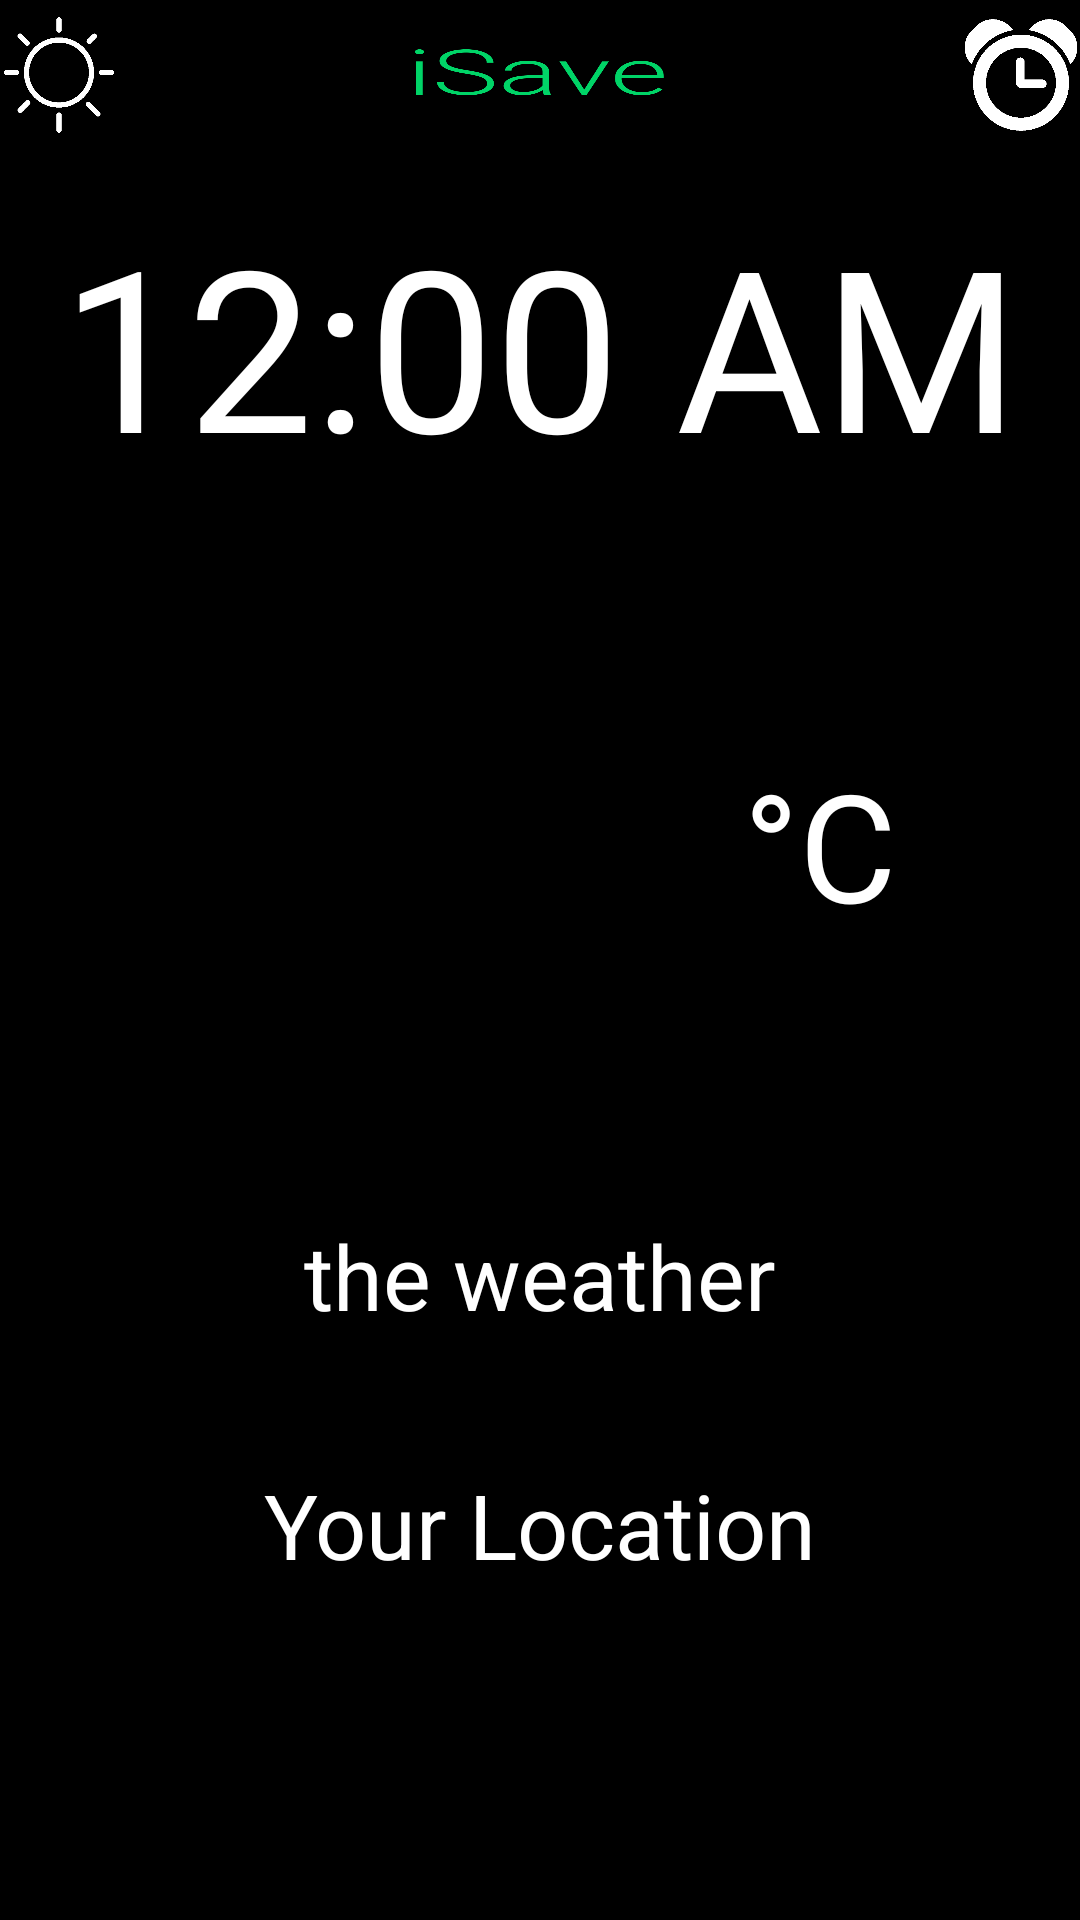

Named icons in this screenshot (1080 x 1920) and their bounding boxes, (x1, y1, x2, y2):
clock: (965, 19, 1077, 131)
sun: (4, 17, 114, 133)
